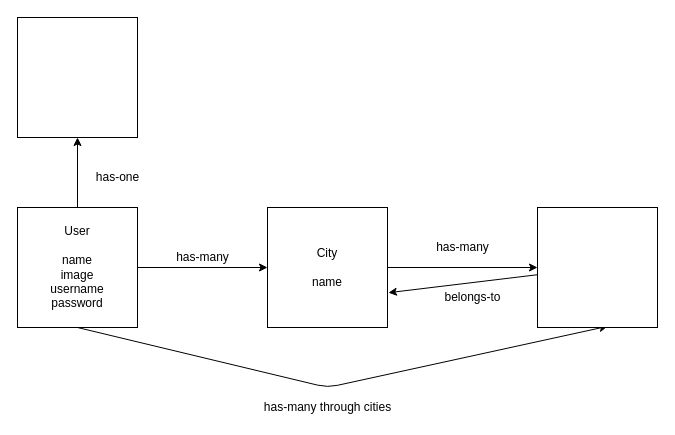
The diagram is 675 pixels wide and 435 high, and some of its shapes have lost their labels. The shapes that lost their labels are listed below. From the top down, each one's box as (x1, y1, x2, y2) in pixels, then its label:
(16, 16, 138, 138): Profile
(536, 206, 658, 328): Coffee Shop name address city_id website socials
